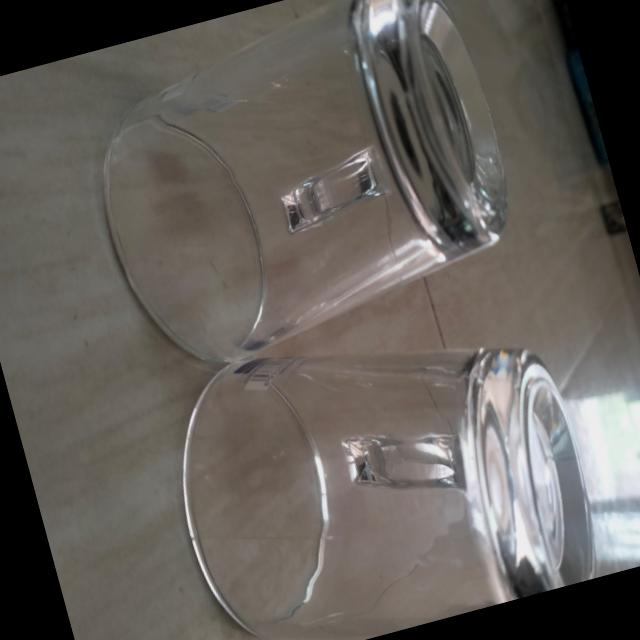glass-VX4N: (60, 0, 545, 390), (155, 287, 614, 640)
